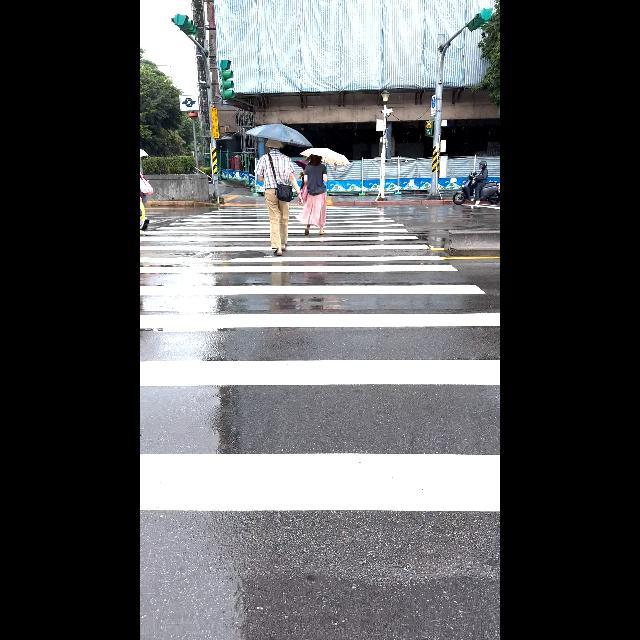sidewalk: (141, 203, 500, 516)
